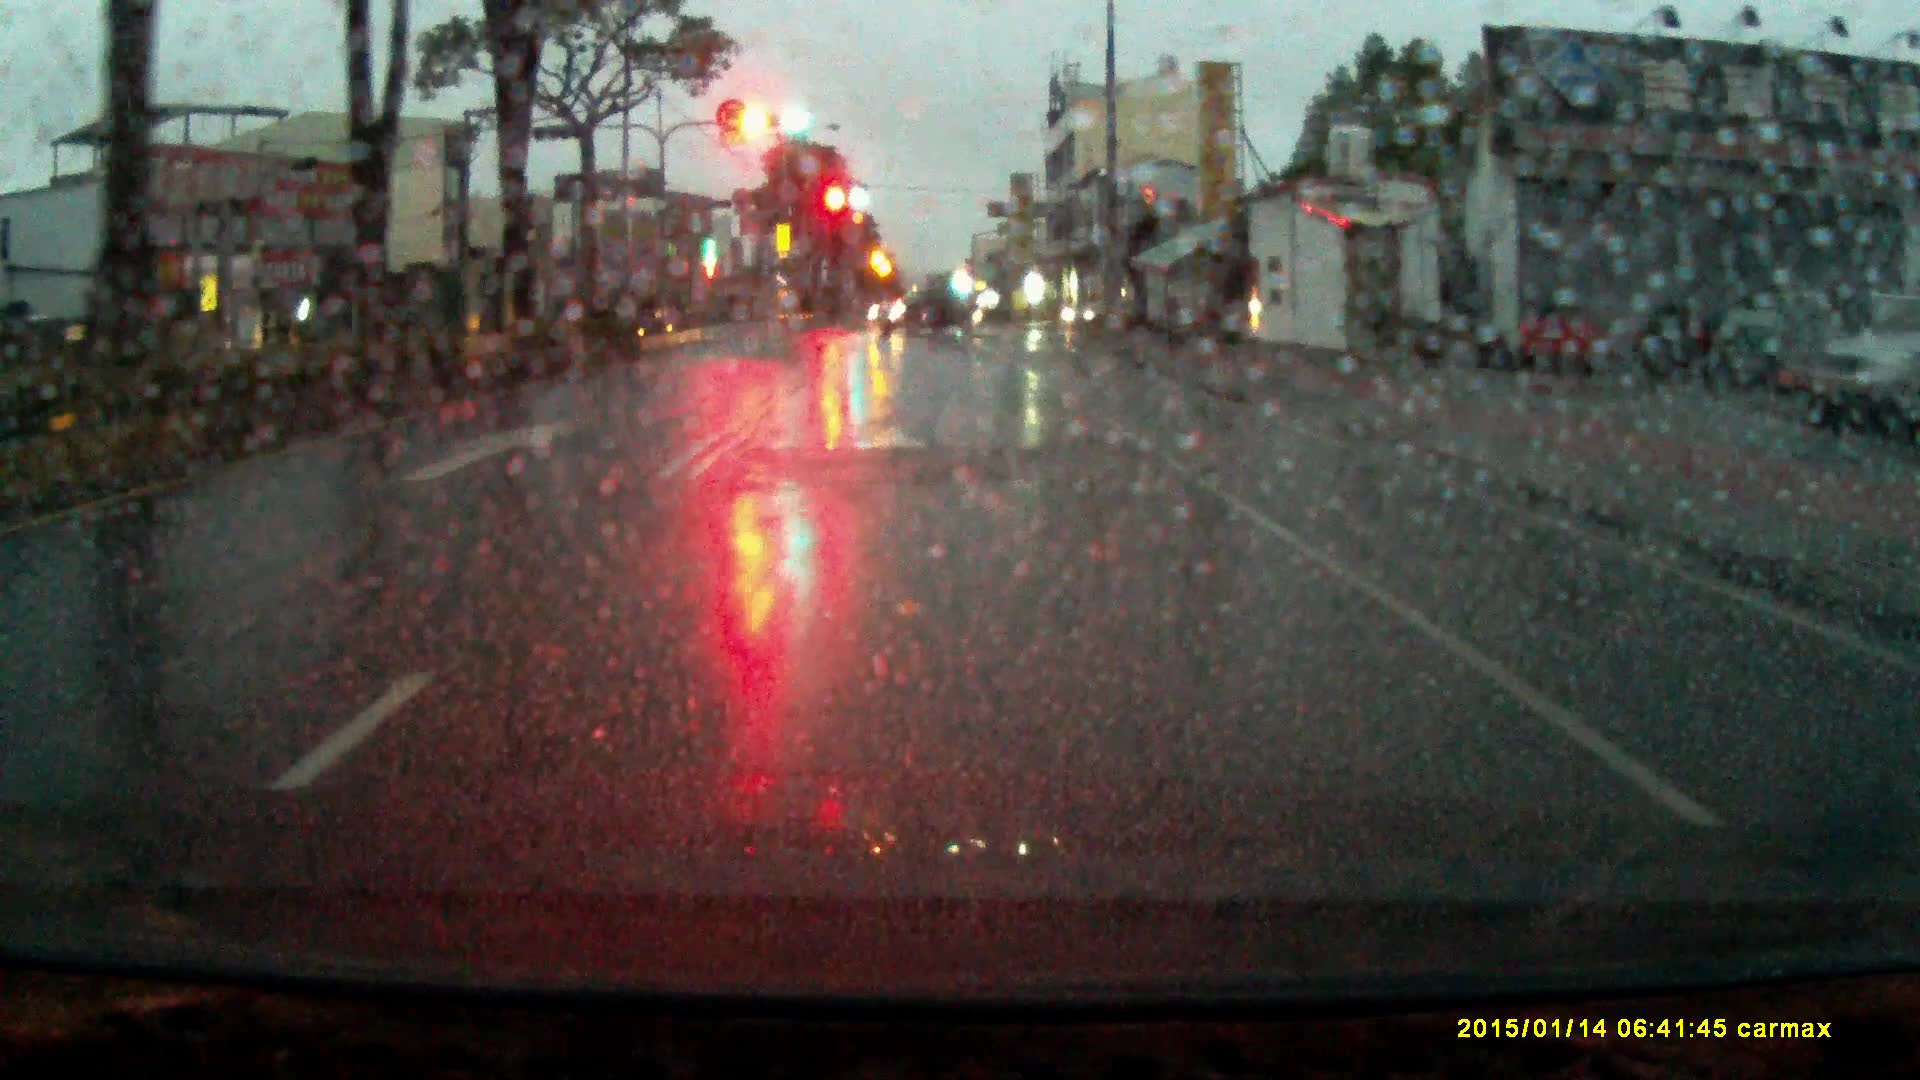vehicle: (869, 281, 977, 344)
